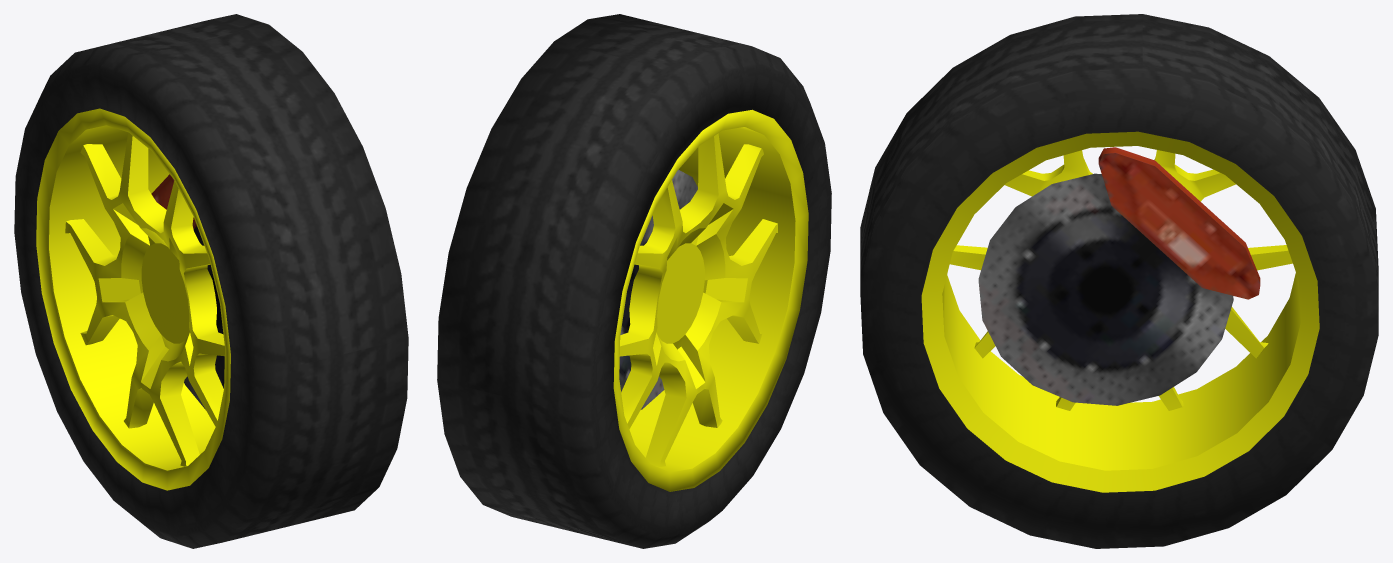
File: Wheel10.fbx
The picture shows the model from 3 angles, left to right: view 1: azimuth 30°, elevation 25°; view 2: azimuth 150°, elevation 25°; view 3: azimuth 270°, elevation 25°; orthographic projection.
Visible parts, largest first — view 1: Tire, Metal, Disc; view 2: Tire, Metal, Disc; view 3: Tire, Metal, Disc.
Boxes of the visible parts, <box> form: Tire: <box>14,14,408,548</box>; Metal: <box>36,108,230,490</box>; Disc: <box>151,174,224,409</box>; Tire: <box>437,14,831,548</box>; Metal: <box>613,109,808,491</box>; Disc: <box>619,169,697,409</box>; Tire: <box>860,14,1378,548</box>; Metal: <box>921,131,1319,492</box>; Disc: <box>978,147,1260,405</box>.
Bounding box in the file's own units: 26.16 × 79.24 × 79.24.
